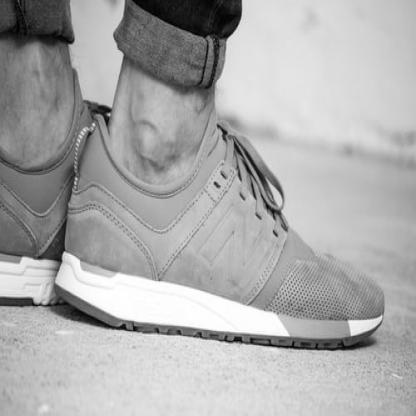ankle: (143, 137, 158, 162)
heel: (67, 239, 74, 253)
pinky: (358, 303, 366, 313)
right_foot: (55, 92, 385, 351)
toe: (346, 264, 350, 270)
